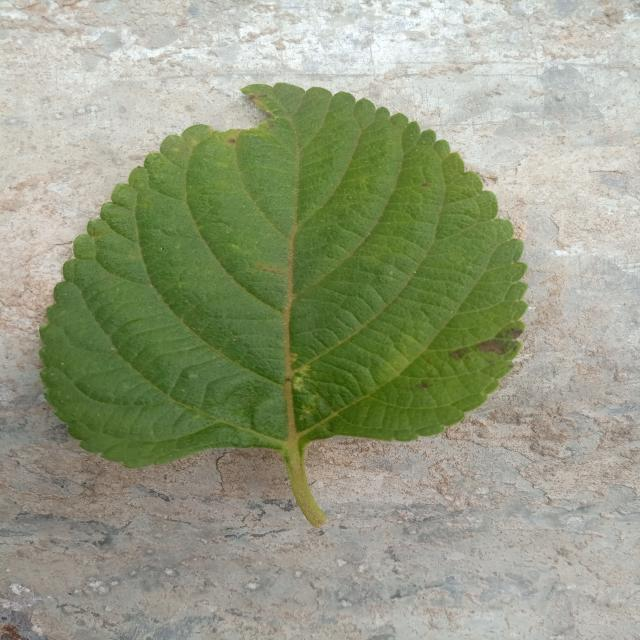Lantana: (42, 84, 527, 526)
